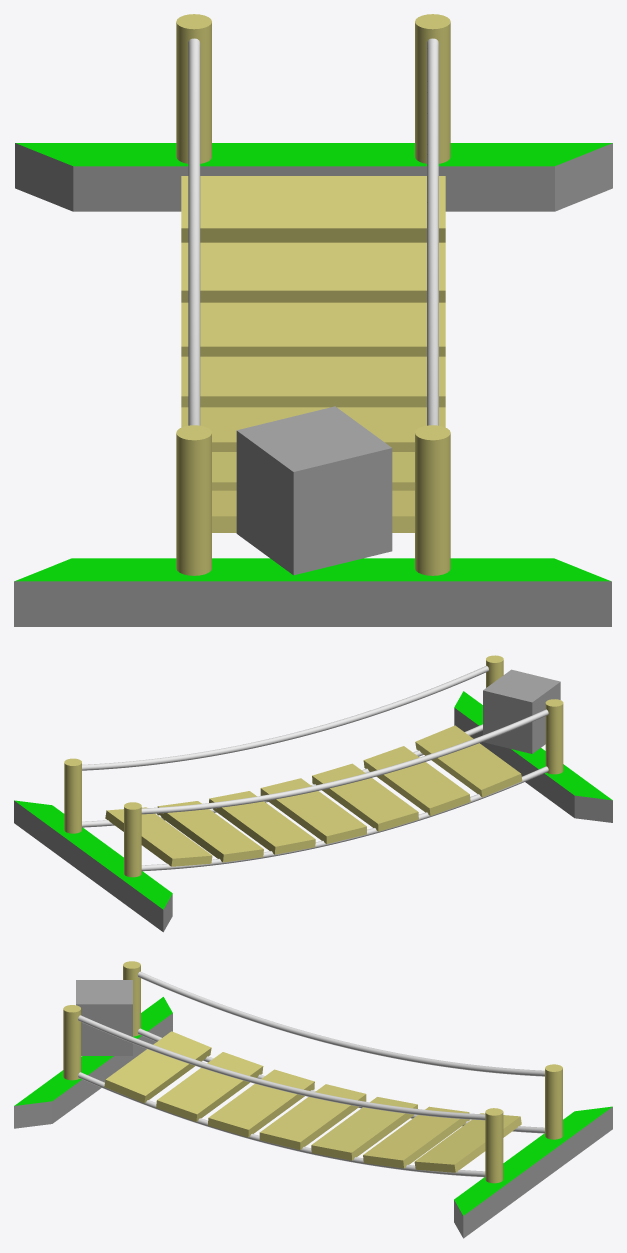
Rendered from WoodBridge.fbx.
3 renders of one model, top to bottom at view 1: azimuth 30°, elevation 25°; view 2: azimuth 150°, elevation 25°; view 3: azimuth 270°, elevation 25°, orthographic. The views are drawn at different scales.
Parts seen in each view (by area): view 1: pCube11, pCube13, pCube21, pCube17, pCube16, pCube15, pCube14, pCylinder10, pCylinder15, pCube18, pCylinder13, pCylinder16 (+4 smaller); view 2: pCube13, pCube11, pCube21, pCube20, pCube19, pCube18, pCube14, pCube15, pCube16, pCylinder13, pCylinder16, pCube17 (+6 smaller); view 3: pCube13, pCube11, pCube21, pCube20, pCube19, pCube18, pCube14, pCube15, pCube16, pCylinder16, pCylinder13, pCube17 (+6 smaller).
Part boxes in pixels (box(x1,y1,x2,y2)): pCube11: box(14, 558, 611, 626); pCube13: box(15, 143, 612, 211); pCube21: box(236, 406, 392, 575); pCube17: box(181, 176, 445, 242); pCube16: box(181, 242, 445, 302); pCube15: box(181, 302, 445, 356); pCube14: box(181, 356, 445, 407); pCylinder10: box(176, 425, 211, 575); pCylinder15: box(415, 425, 450, 575); pCube18: box(181, 407, 445, 451); pCylinder13: box(188, 38, 200, 425); pCylinder16: box(427, 38, 438, 425); pCube13: box(14, 800, 172, 932); pCube11: box(454, 691, 612, 822); pCube21: box(483, 669, 560, 753); pCube20: box(415, 725, 522, 797); pCube19: box(363, 746, 470, 815); pCube18: box(312, 763, 418, 831); pCube14: box(260, 778, 366, 844); pCube15: box(209, 791, 315, 854); pCube16: box(157, 801, 263, 862); pCylinder13: box(141, 709, 548, 814); pCylinder16: box(82, 665, 488, 770); pCube17: box(105, 807, 212, 866); pCube13: box(454, 1106, 612, 1238); pCube11: box(14, 997, 172, 1128); pCube21: box(76, 980, 132, 1055); pCube20: box(104, 1031, 211, 1103); pCube19: box(156, 1052, 263, 1121); pCube18: box(208, 1069, 314, 1137); pCube14: box(259, 1084, 366, 1149); pCube15: box(311, 1097, 417, 1160); pCube16: box(363, 1106, 469, 1168); pCylinder16: box(78, 1015, 485, 1120); pCylinder13: box(137, 971, 544, 1076); pCube17: box(414, 1113, 521, 1172).
Size of the model in its own units: 86.94 by 16.73 by 100.
